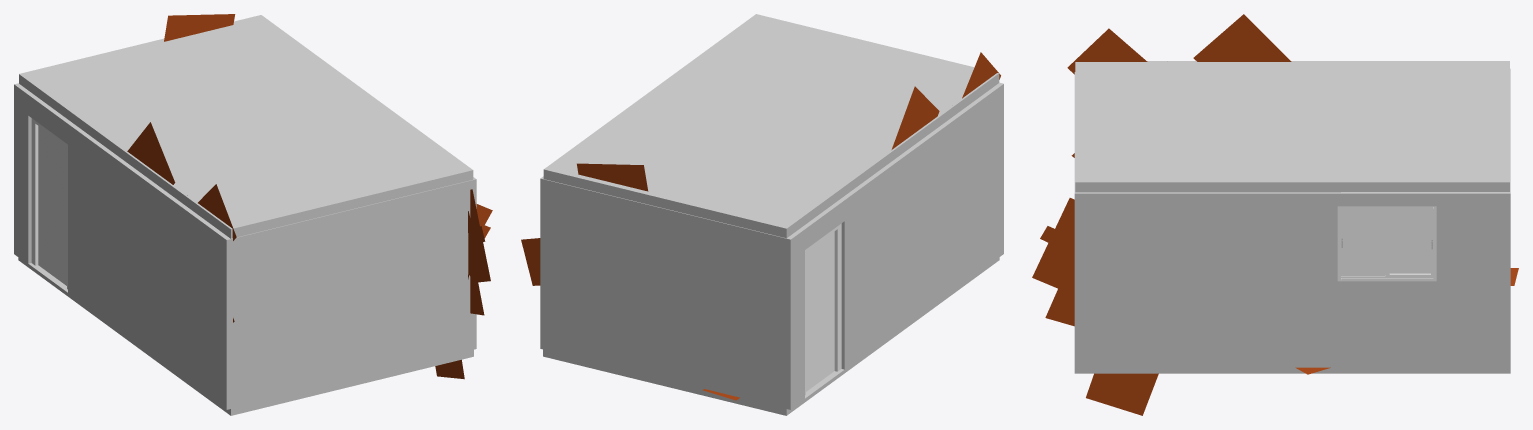
File: FloorPlan21_physics.fbx
The picture shows the model from 3 angles, left to right: view 1: azimuth 30°, elevation 25°; view 2: azimuth 150°, elevation 25°; view 3: azimuth 270°, elevation 25°; orthographic projection. The views are drawn at different scales.
Parts seen in each view (by area): view 1: Room.035, Ceiling.004, Door.001, Floor.004, Decals.016, Decals.017, Decals.015, DoorFrame.001; view 2: Room.035, Ceiling.004, Door.001, Floor.004, Decals.016, Decals.017, DoorFrame.001; view 3: Room.035, Ceiling.004, Window.R.001, Decals.015, Decals.017, Floor.004, WindowFrame, Window.R.
Boxes of the visible parts, x1,y1,x2,y2 form: Room.035: (14,83,476,409); Ceiling.004: (19,15,473,238); Door.001: (38,126,66,285); Floor.004: (18,257,473,415); Decals.016: (164,14,492,279); Decals.017: (127,122,236,322); Decals.015: (435,189,490,379); DoorFrame.001: (31,118,67,289); Room.035: (540,82,1003,409); Ceiling.004: (543,14,999,238); Door.001: (806,231,834,391); Floor.004: (543,257,999,415); Decals.016: (521,163,648,285); Decals.017: (891,52,1000,149); DoorFrame.001: (805,223,841,395); Room.035: (1074,68,1510,367); Ceiling.004: (1075,61,1509,192); Window.R.001: (1342,209,1430,275); Decals.015: (1032,198,1158,415); Decals.017: (1067,14,1291,157); Floor.004: (1074,367,1510,373); WindowFrame: (1337,206,1436,281); Window.R: (1385,208,1433,277).
Bounding box in the file's own units: 399 × 386 × 601.
